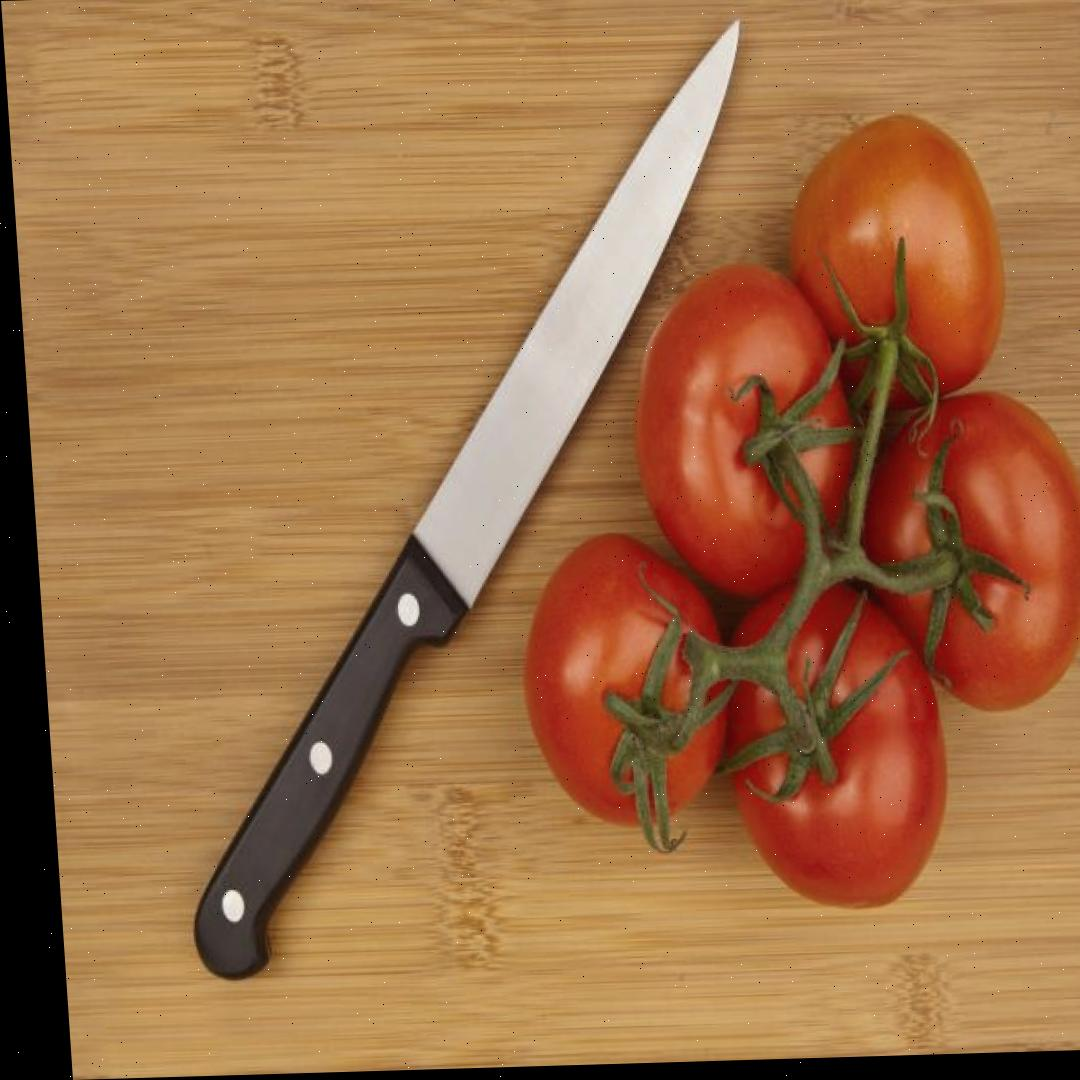matang: (712, 575, 956, 909), (620, 257, 859, 597), (850, 391, 1080, 714), (514, 528, 737, 831)
setengah_matang: (776, 113, 1010, 411)
